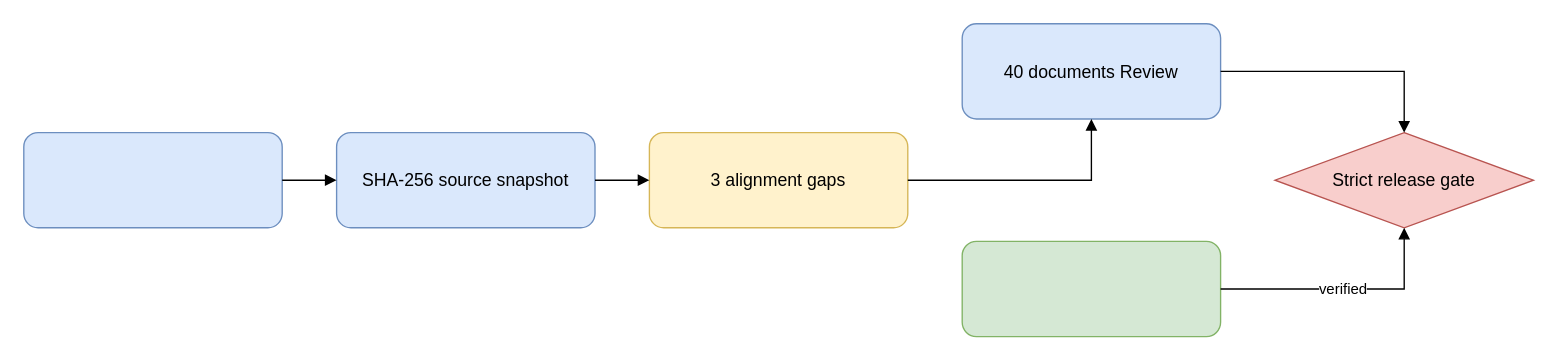
This 1557x360 diagram has some shape labels left out. The centre of each missing label's shape, as x and y in pixels:
"Automated E2E evidence PASSED_COMPLETE 10/10 passed" belongs at (x=1091, y=288).
"Source code 221-file inventory" belongs at (x=152, y=179).
